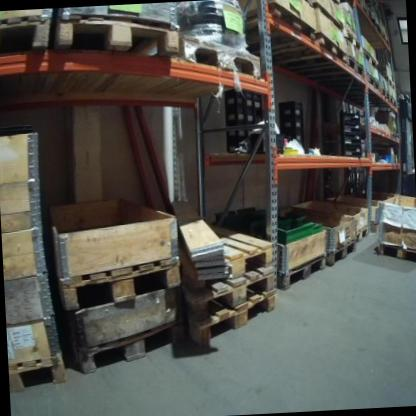pallet: (54, 8, 182, 69), (55, 254, 181, 312), (70, 316, 187, 375), (188, 264, 276, 321), (181, 233, 271, 288), (176, 30, 264, 84), (191, 291, 276, 346), (234, 0, 314, 51), (7, 349, 69, 392), (0, 8, 49, 61), (275, 253, 328, 291), (311, 35, 347, 73), (374, 238, 416, 267), (324, 235, 358, 270), (343, 54, 364, 82), (343, 29, 365, 54), (347, 222, 371, 243), (359, 73, 379, 96), (362, 51, 381, 70), (382, 72, 396, 91), (385, 94, 398, 112), (376, 81, 387, 102)
pallet_truck: (394, 95, 415, 193)
